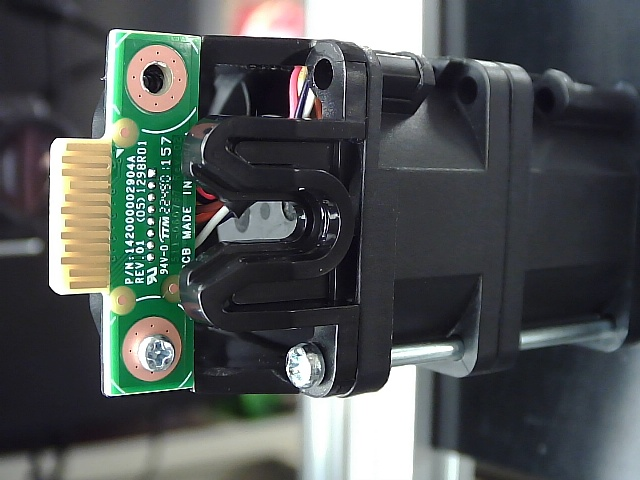3_1: (108, 29, 204, 120)
